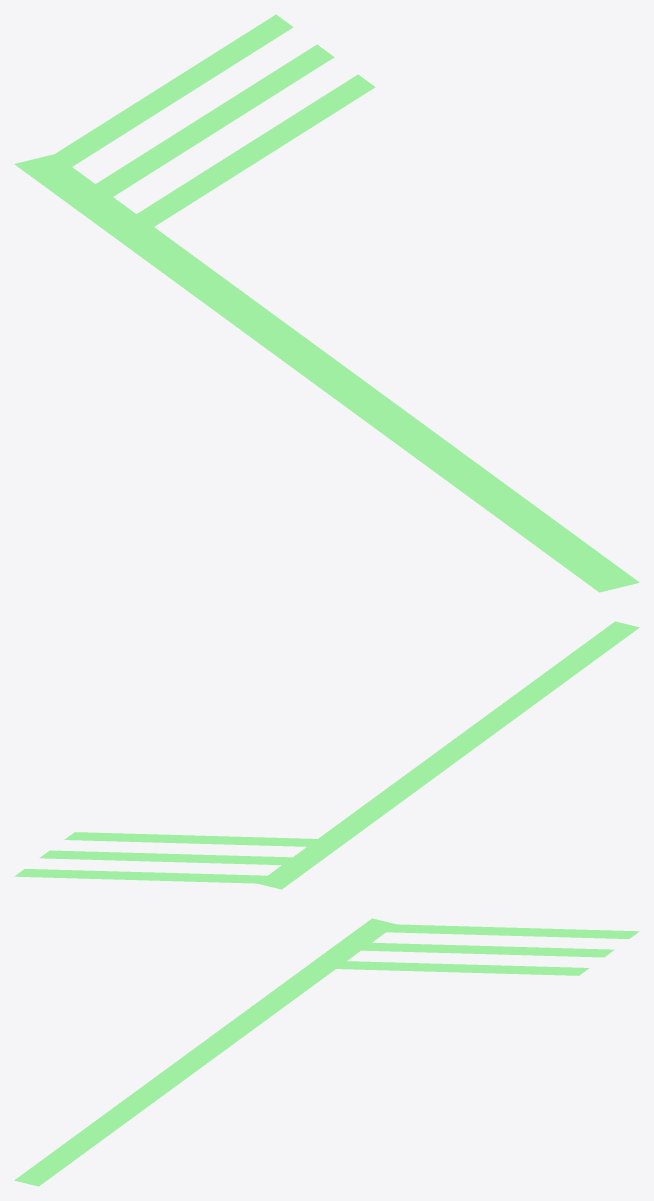
File: daes007nhemi02750325kts.dae
3 renders of one model, top to bottom at view 1: azimuth 30°, elevation 25°; view 2: azimuth 150°, elevation 25°; view 3: azimuth 330°, elevation 25°, orthographic. The views are drawn at different scales.
Visible parts, largest first — view 1: Plane; view 2: Plane; view 3: Plane.
Part boxes in pixels (box(x1,y1,x2,y2)): Plane: box(14, 15, 639, 592); Plane: box(15, 621, 639, 889); Plane: box(14, 918, 638, 1186).
Size of the model in its own units: 34.51 by 115 by 0.
